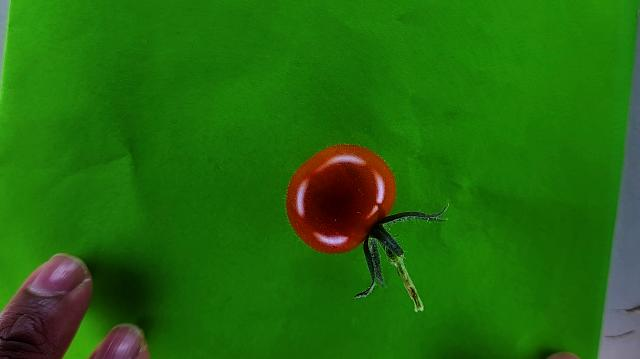Fully Grown: (284, 144, 399, 256)
